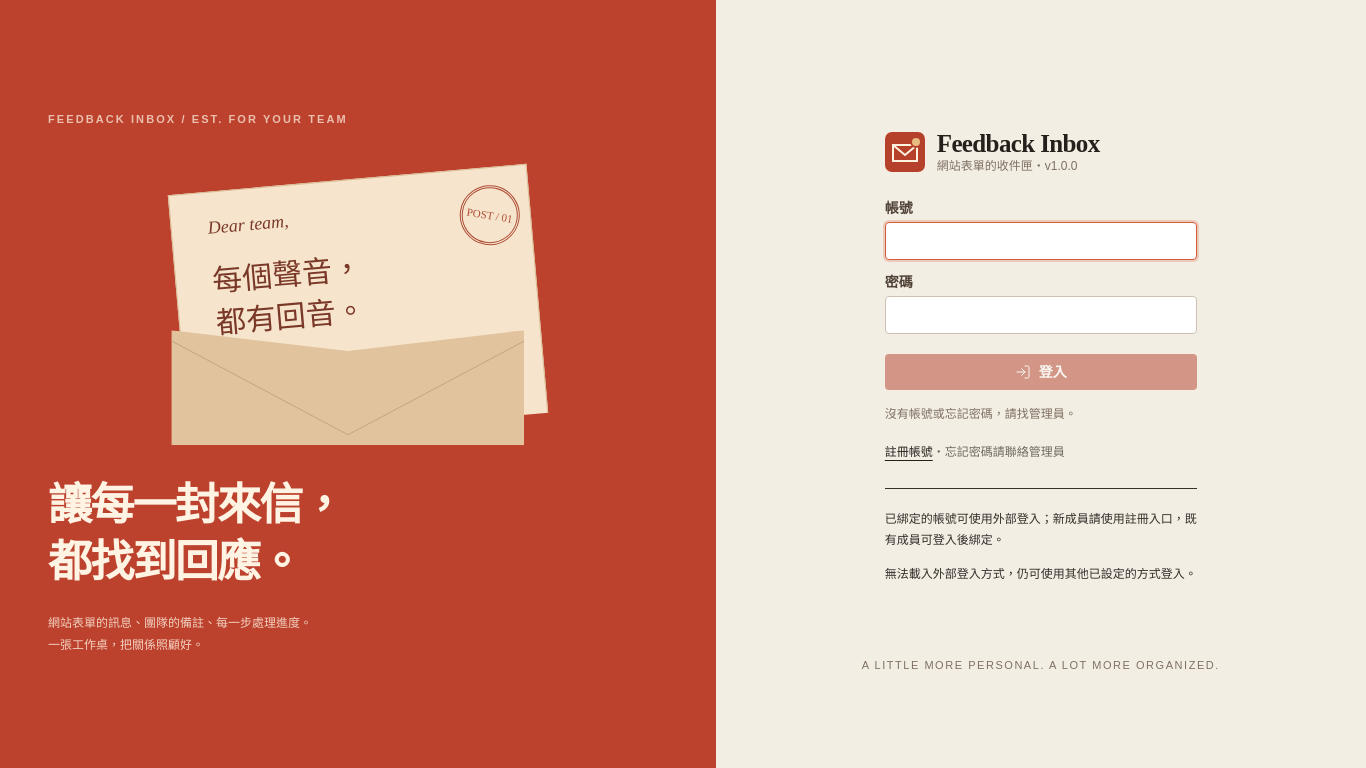
Scenario: 密碼錯了會顯示後端的訊息，並清掉密碼
Type "nat" into the field labelled "帳號" at (1041, 241), box 885,222 -> 1197,260
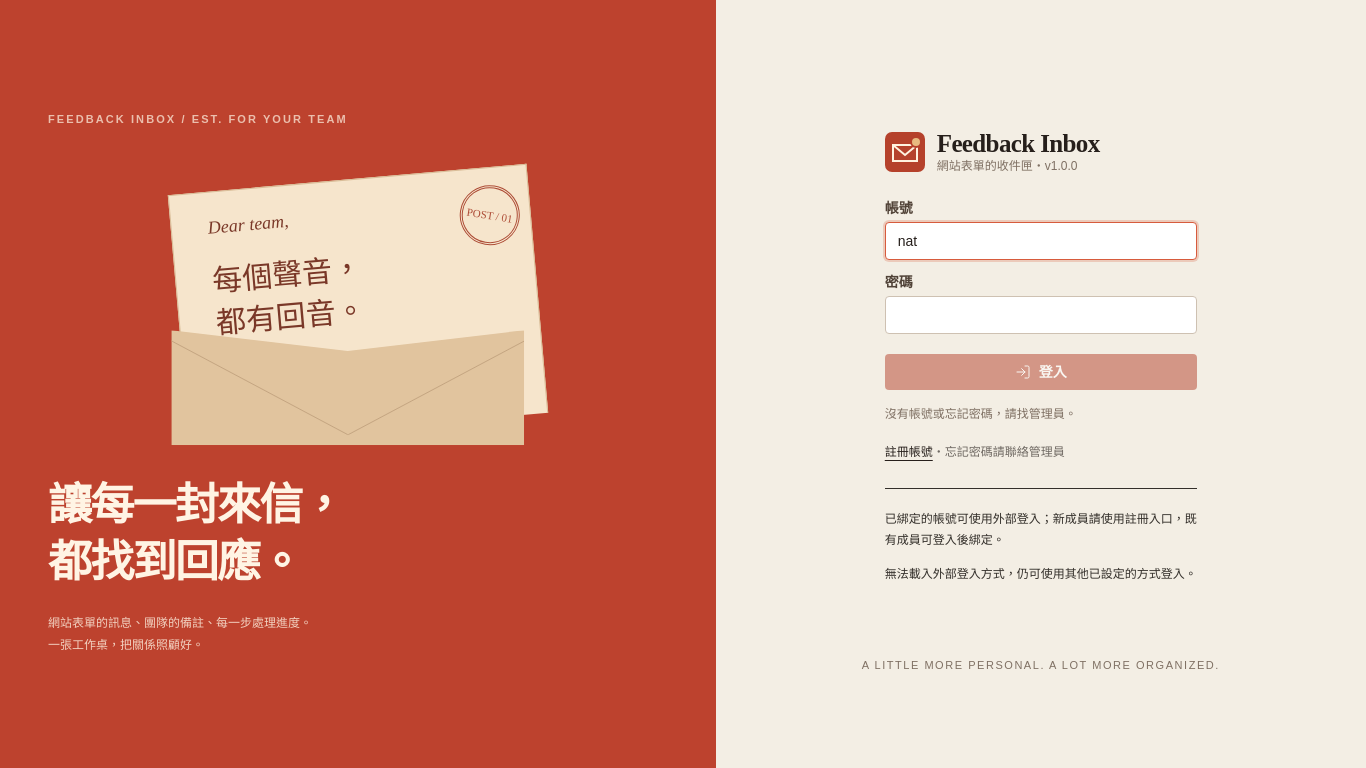
Type "wrong password" into the password field labelled "密碼" at (1041, 315), box 885,296 -> 1197,334
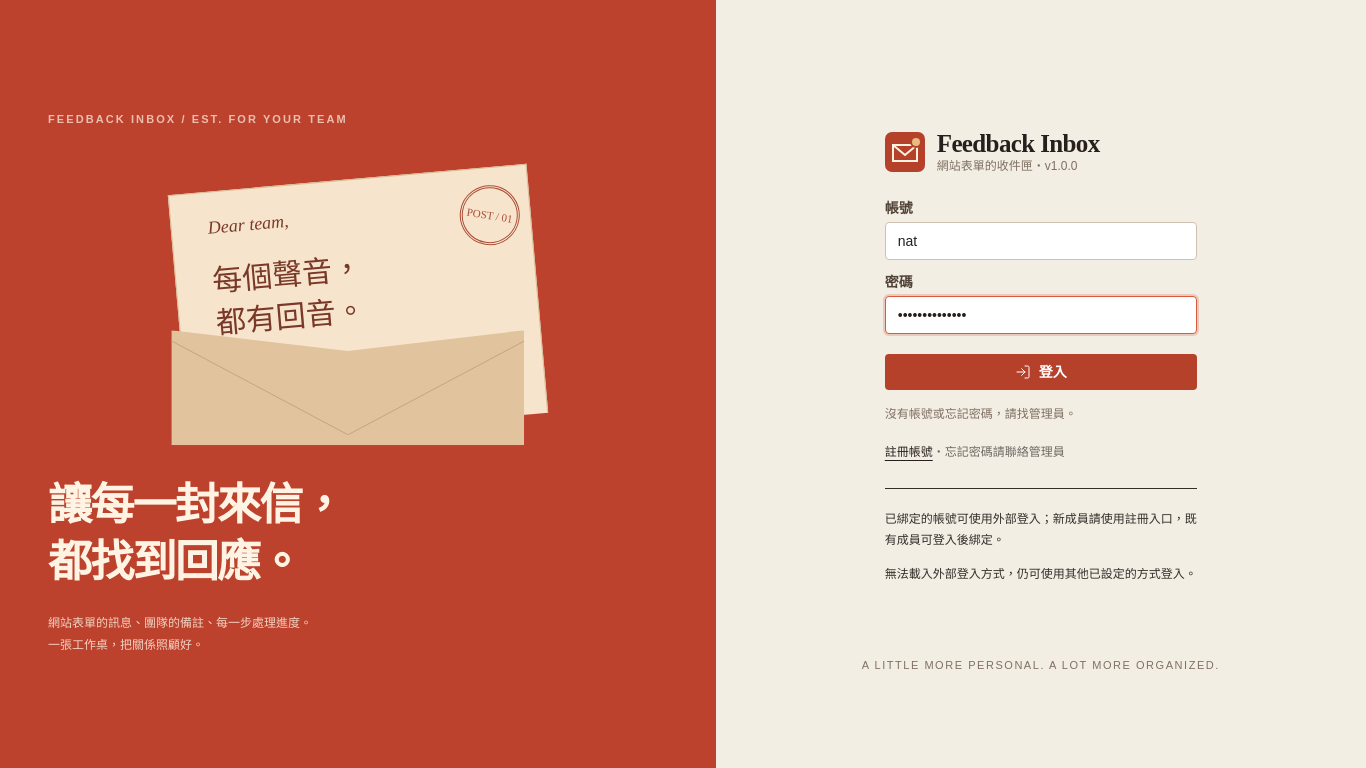
Click the button "登入" at (1041, 372), box 885,354 -> 1197,390
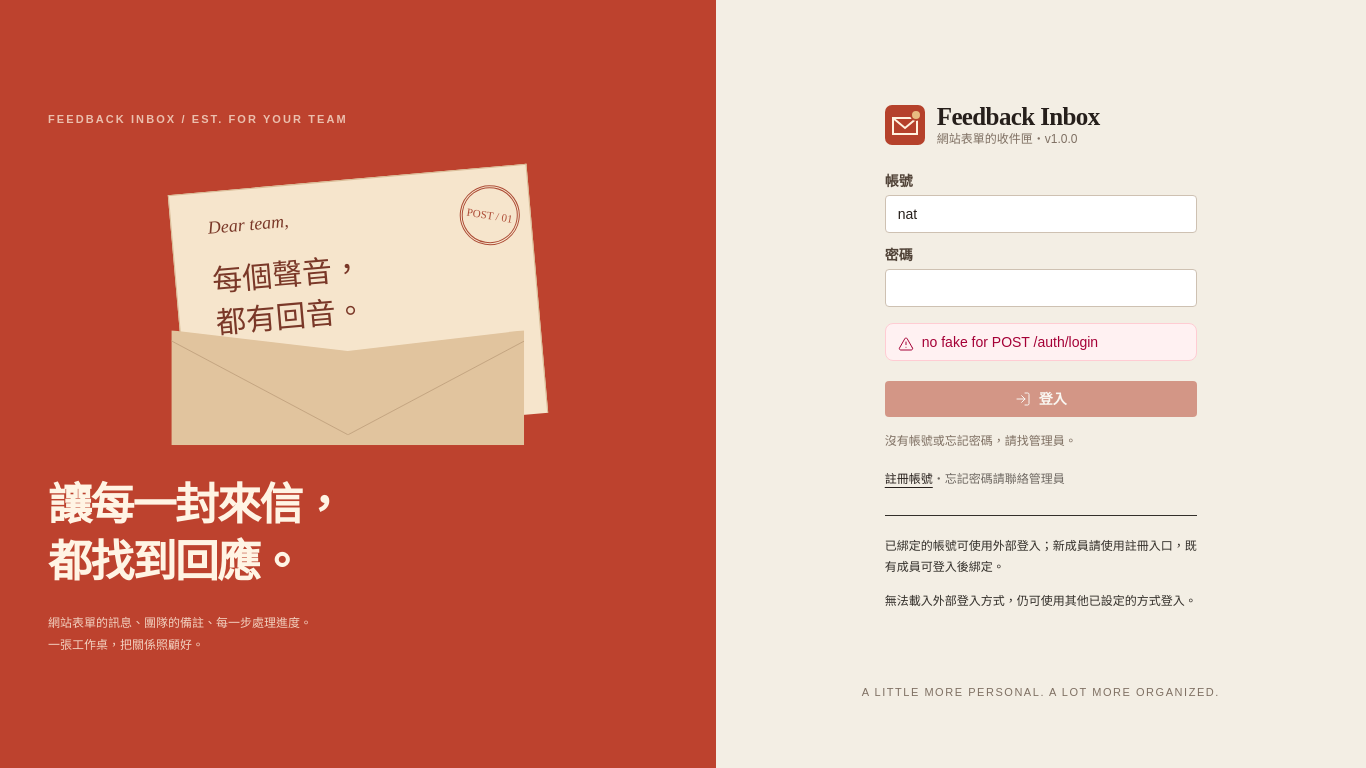
expect the message reads "no fake for POST /auth/login": met, box 922,334 -> 1098,350
expect the password field labelled "密碼" is empty: met, box 885,269 -> 1197,307
